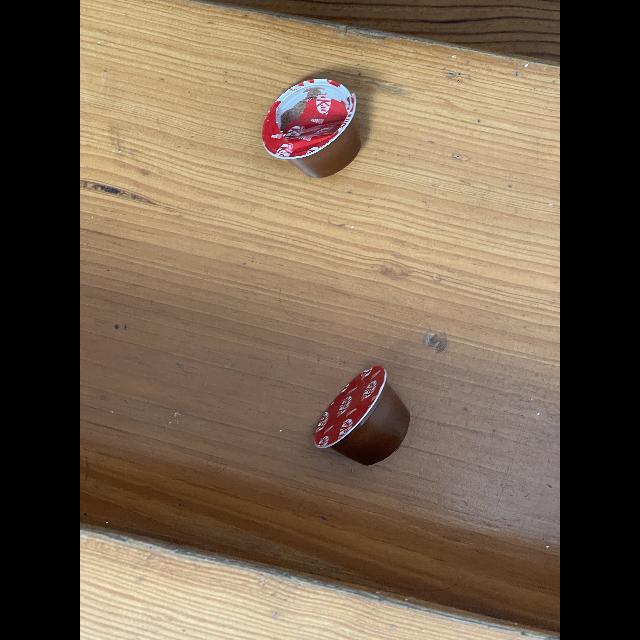damaged_capsule: (260, 70, 368, 186)
intact_capsule: (308, 358, 419, 472)
